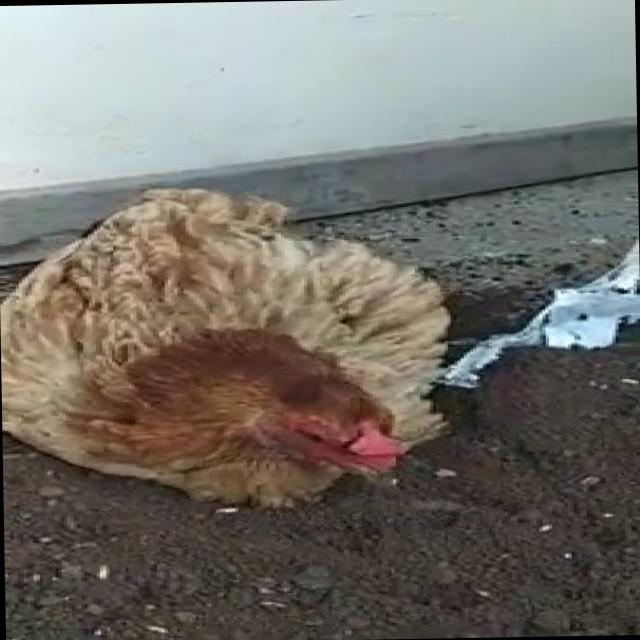stand bath: (0, 179, 485, 516)
